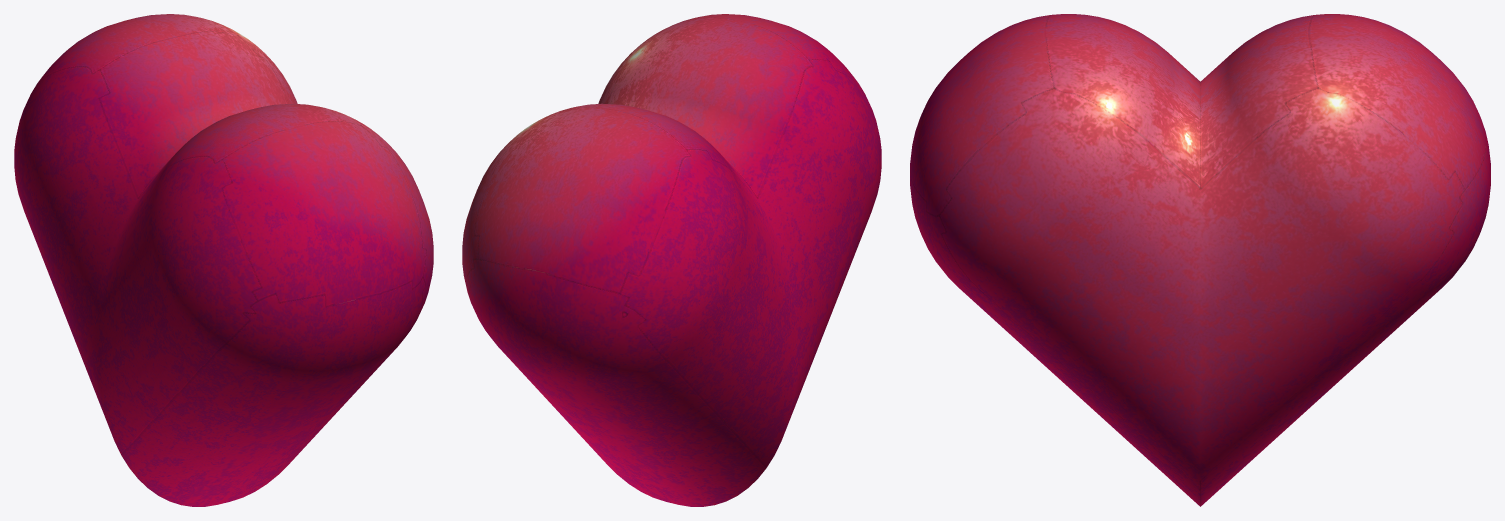
The model's file is heart4.glb.
3 views of the same model, side by side, from view 1: azimuth 30°, elevation 25°; view 2: azimuth 150°, elevation 25°; view 3: azimuth 270°, elevation 25° (orthographic). The views are drawn at different scales.
Visible parts, largest first — view 1: Cube_0; view 2: Cube_0; view 3: Cube_0.
Boxes of the visible parts, left/top/right/bottom form: Cube_0: left=14, top=14, right=433, bottom=506; Cube_0: left=462, top=14, right=881, bottom=506; Cube_0: left=910, top=14, right=1490, bottom=506.
Size of the model in its own units: 2 by 3.28 by 3.74.
Materials: 1 (1 with a texture image).
